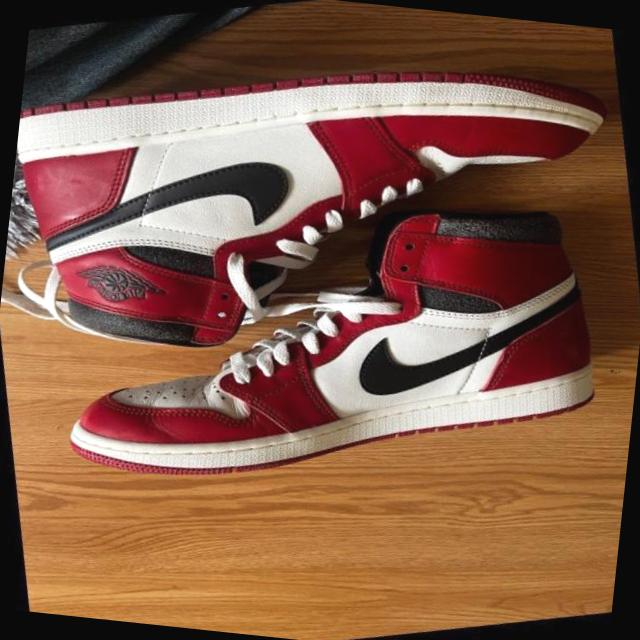nike_original_jordan: (0, 0, 640, 423), (19, 139, 629, 548)
